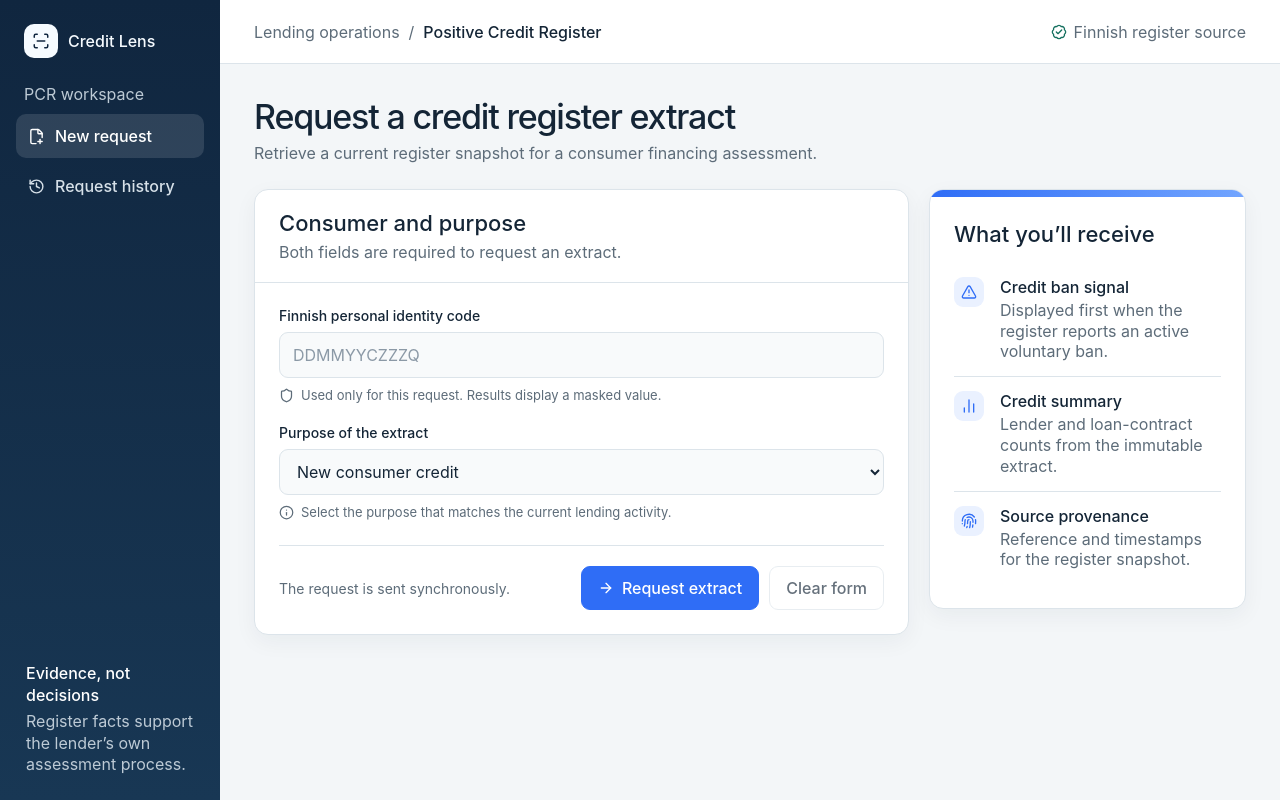
Test: Credit Lens workspace › keeps the clear form action stable while the input changes
Expected: the button "Clear form" is disabled, [769,566,884,610]
Type "010190-123A" into the field labelled "Finnish personal identity code" at (582, 355), box [279,332,884,378]
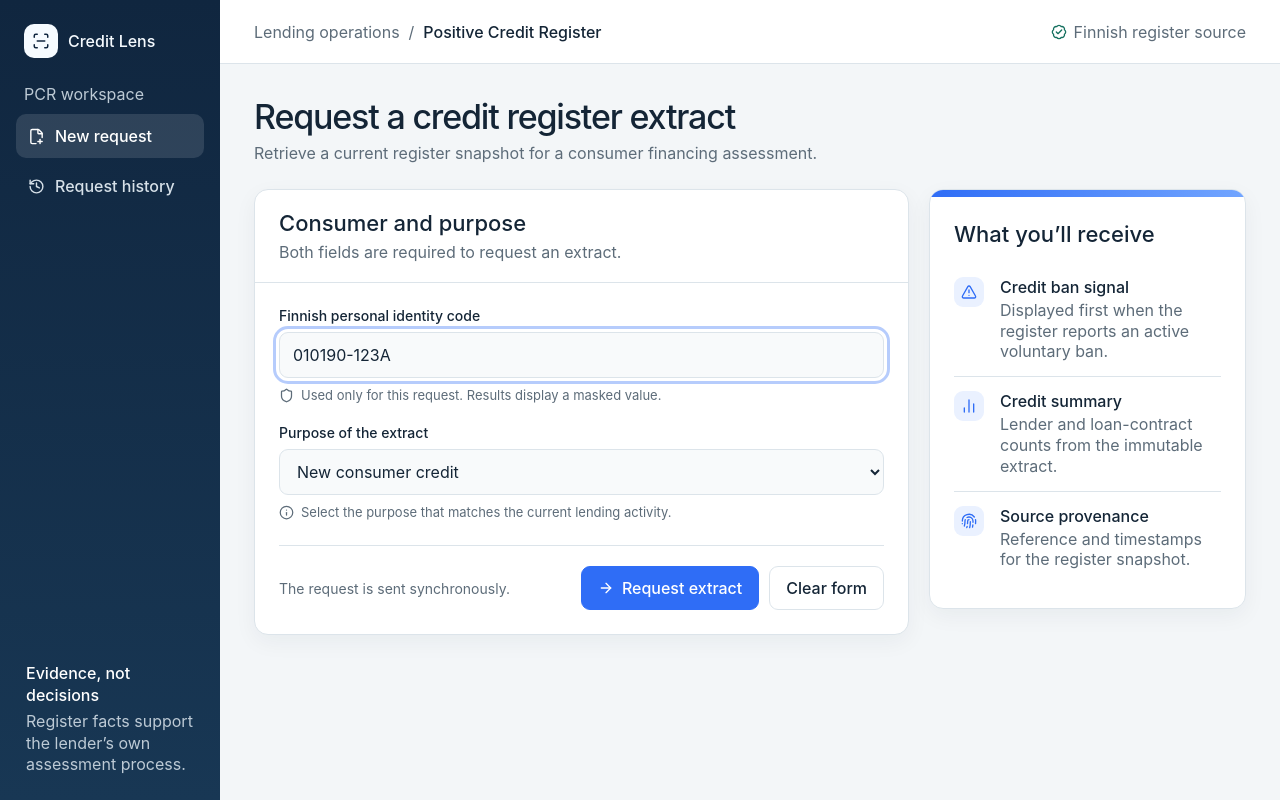
Now the button "Clear form" is enabled
Click the button "Clear form" at (827, 588), box [769,566,884,610]
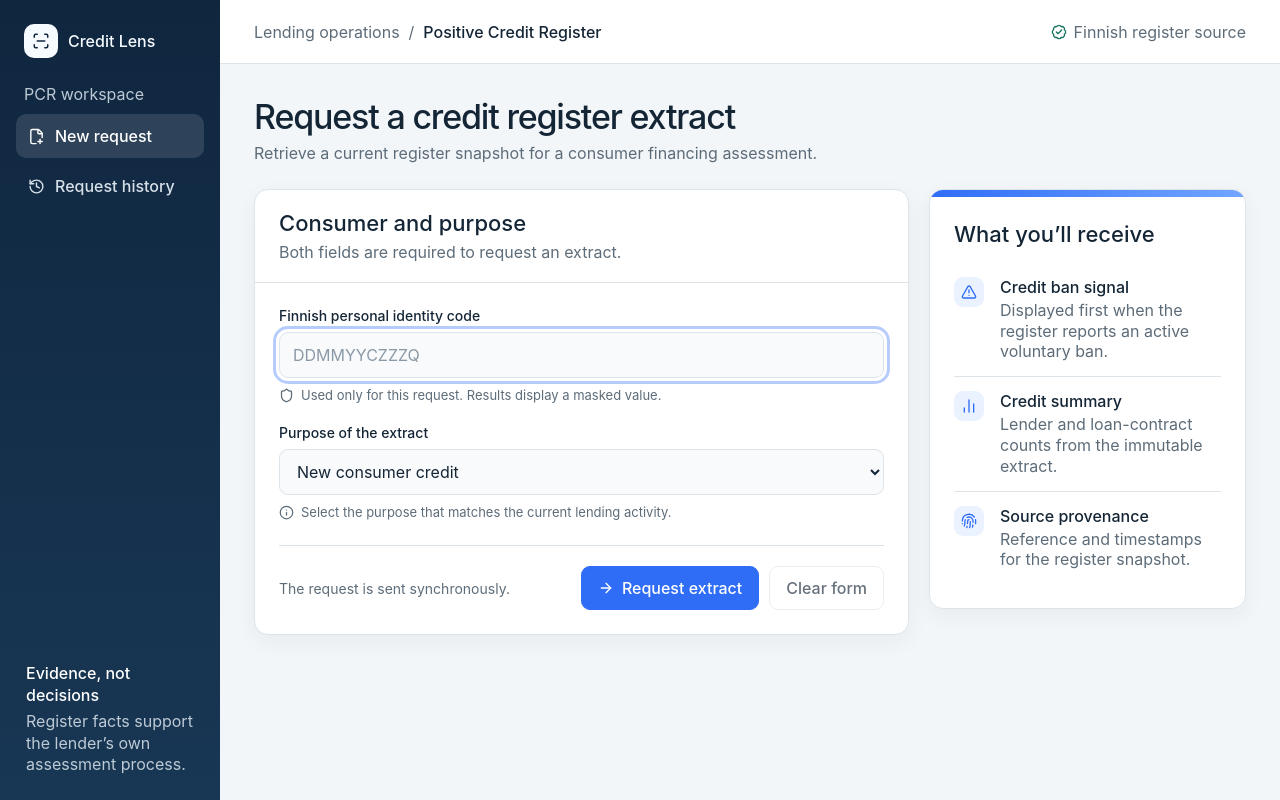
Now the field labelled "Finnish personal identity code" is empty, box [279,332,884,378]
Now the button "Clear form" is disabled, box [769,566,884,610]
